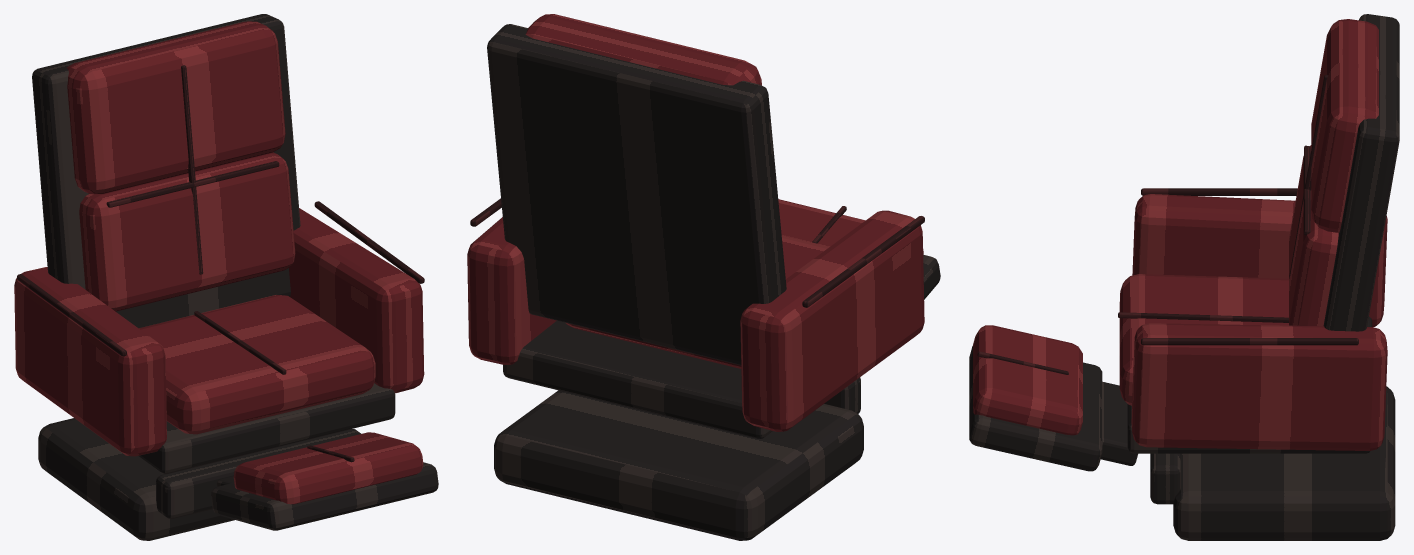
Rendered from deterministic-recliner.glb.
The picture shows the model from 3 angles, left to right: view 1: azimuth 30°, elevation 25°; view 2: azimuth 150°, elevation 25°; view 3: azimuth 270°, elevation 25°; orthographic projection. The views are drawn at different scales.
Visible parts, largest first — view 1: back_cushion_upper, back_cushion_lower, seat_cushion, left_arm, back_frame, right_arm, base, footrest_cushion, seat_frame, footrest_frame, base_front_rail, back_horizontal_seam (+4 smaller); view 2: back_frame, base, left_arm, seat_frame, right_arm, back_cushion_upper, footrest_cushion, seat_cushion, left_arm_piping, base_front_rail, footrest_frame; view 3: right_arm, base, left_arm, back_frame, back_cushion_upper, footrest_cushion, seat_cushion, footrest_frame, back_cushion_lower, footrest_support, right_arm_piping, seat_frame (+5 smaller).
Part boxes in pixels (left/top/right/bottom): back_cushion_upper: left=66, top=21, right=285, bottom=194; back_cushion_lower: left=79, top=152, right=295, bottom=311; seat_cushion: left=139, top=295, right=375, bottom=434; left_arm: left=14, top=267, right=166, bottom=456; back_frame: left=32, top=14, right=300, bottom=328; right_arm: left=289, top=208, right=424, bottom=393; base: left=38, top=418, right=234, bottom=540; footrest_cushion: left=233, top=432, right=423, bottom=504; seat_frame: left=138, top=383, right=395, bottom=473; footrest_frame: left=211, top=462, right=438, bottom=530; base_front_rail: left=156, top=429, right=361, bottom=518; back_horizontal_seam: left=106, top=161, right=279, bottom=207; back_frame: left=487, top=24, right=786, bottom=365; base: left=494, top=390, right=863, bottom=540; left_arm: left=740, top=210, right=924, bottom=431; seat_frame: left=503, top=320, right=772, bottom=438; right_arm: left=467, top=217, right=556, bottom=364; back_cushion_upper: left=525, top=14, right=761, bottom=85; footrest_cushion: left=778, top=199, right=923, bottom=253; seat_cushion: left=565, top=235, right=829, bottom=368; left_arm_piping: left=802, top=216, right=924, bottom=307; base_front_rail: left=824, top=377, right=860, bottom=413; footrest_frame: left=923, top=254, right=940, bottom=299; right_arm: left=1131, top=323, right=1387, bottom=450; base: left=1173, top=386, right=1395, bottom=540; left_arm: left=1132, top=194, right=1387, bottom=326; back_frame: left=1323, top=14, right=1399, bottom=331; back_cushion_upper: left=1311, top=19, right=1378, bottom=232; footrest_cushion: left=973, top=325, right=1082, bottom=435; seat_cushion: left=1119, top=274, right=1288, bottom=405; footrest_frame: left=969, top=346, right=1102, bottom=471; back_cushion_lower: left=1289, top=145, right=1338, bottom=326; footrest_support: left=1101, top=381, right=1137, bottom=465; right_arm_piping: left=1141, top=338, right=1358, bottom=345; seat_frame: left=1127, top=316, right=1372, bottom=453.
Bounding box in the file's own units: 1.89 × 2.44 × 2.25.
3 materials, 3 textured.
